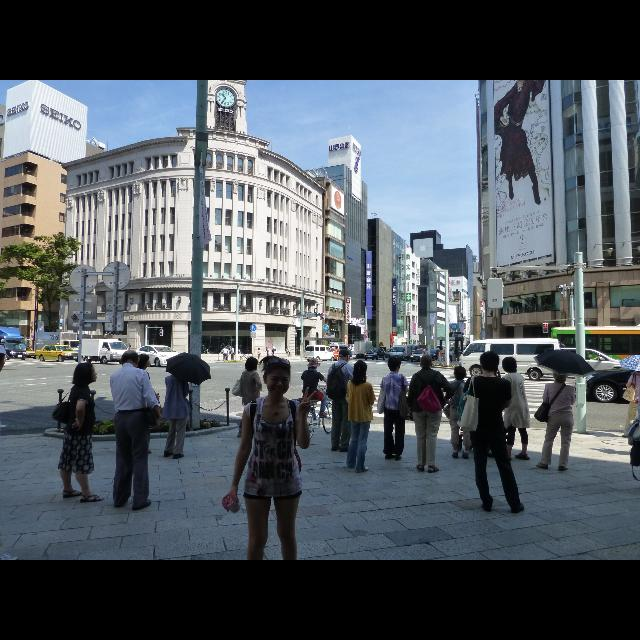head: (263, 359, 291, 397), (75, 362, 98, 382), (120, 349, 140, 371), (480, 352, 500, 372), (419, 354, 433, 370), (137, 354, 151, 368), (355, 361, 367, 377), (389, 357, 401, 373), (338, 349, 350, 363), (454, 366, 466, 380), (504, 358, 516, 372), (172, 364, 184, 376), (246, 357, 258, 369), (554, 369, 566, 381), (310, 358, 318, 370), (224, 347, 226, 349), (227, 349, 229, 351), (231, 346, 233, 348), (258, 348, 260, 350), (267, 347, 269, 349), (272, 345, 274, 347), (287, 346, 289, 348), (440, 349, 442, 351), (451, 350, 453, 352)
person: (456, 350, 526, 516), (108, 348, 162, 512), (50, 361, 106, 503), (406, 353, 456, 473), (533, 368, 579, 472), (125, 353, 164, 455), (495, 356, 531, 464), (344, 360, 378, 472), (437, 366, 477, 460), (376, 356, 410, 462), (326, 348, 358, 454), (162, 362, 194, 460), (232, 356, 262, 439), (300, 357, 332, 419), (221, 347, 229, 361), (230, 346, 236, 360), (256, 347, 262, 361), (271, 344, 277, 358), (448, 350, 454, 362), (438, 348, 442, 364), (285, 346, 291, 356), (265, 346, 269, 359), (225, 348, 229, 360)
